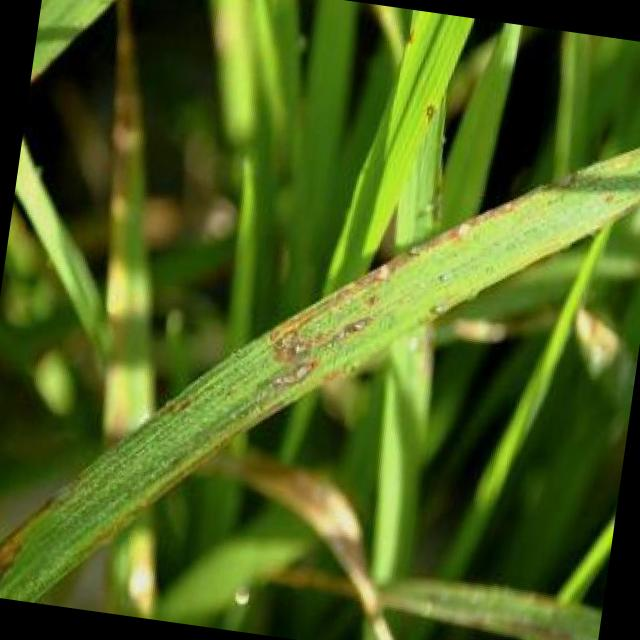Rice_Blast: (261, 338, 338, 409), (332, 306, 394, 360), (260, 310, 308, 364)
